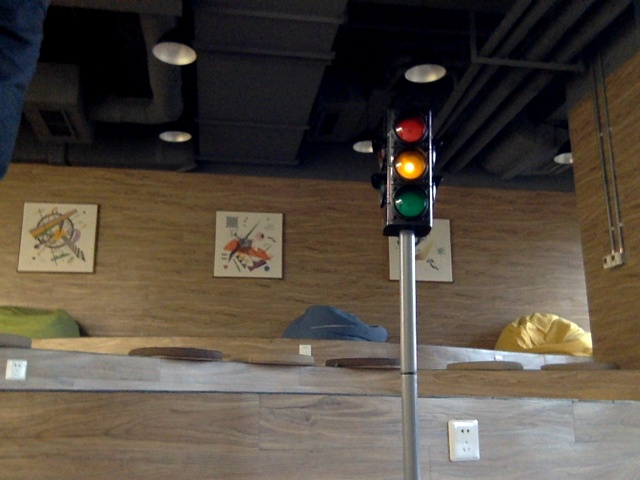yellow: (386, 115, 433, 225)
